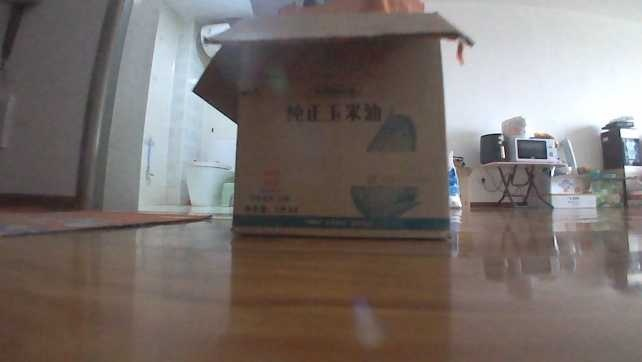blanket: (0, 198, 215, 240)
toilet: (182, 156, 231, 210)
